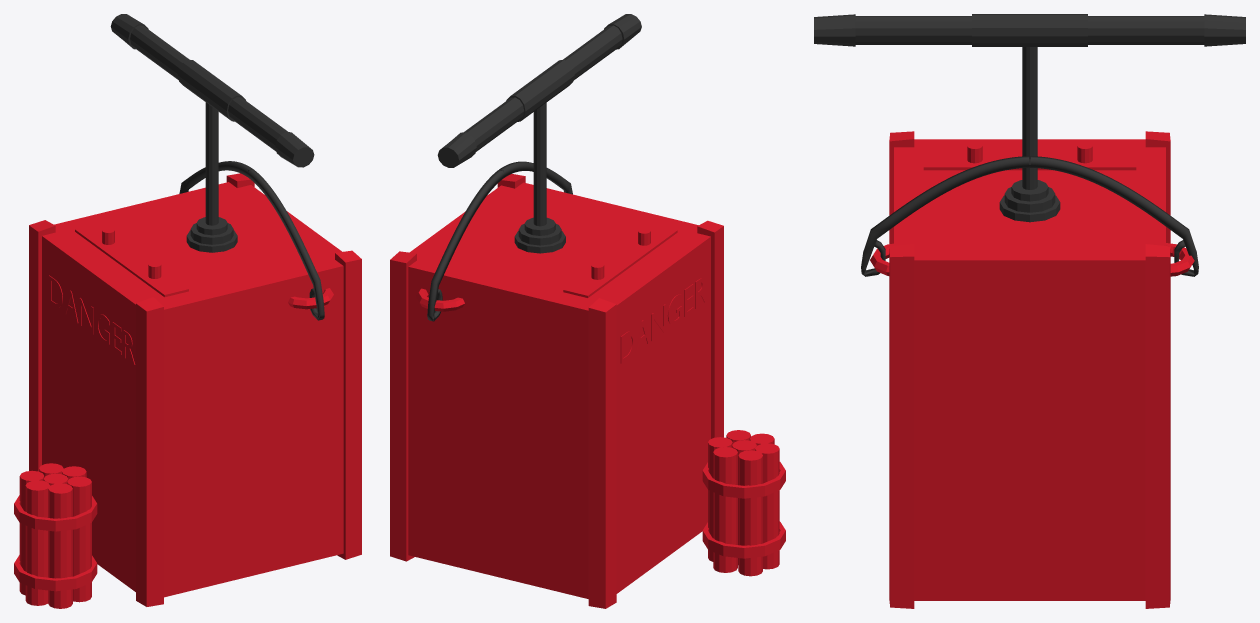
File: bomb.fbx
3 renders of one model, left to right at view 1: azimuth 30°, elevation 25°; view 2: azimuth 150°, elevation 25°; view 3: azimuth 270°, elevation 25°, orthographic. The views are drawn at different scales.
Parts seen in each view (by area): view 1: bomb; view 2: bomb; view 3: bomb.
Part boxes in pixels (x1,y1,x2,y2): bomb: (14, 14, 361, 608); bomb: (390, 14, 785, 608); bomb: (814, 14, 1245, 608).
Size of the model in its own units: 0.6916 by 0.9871 by 0.7102.
